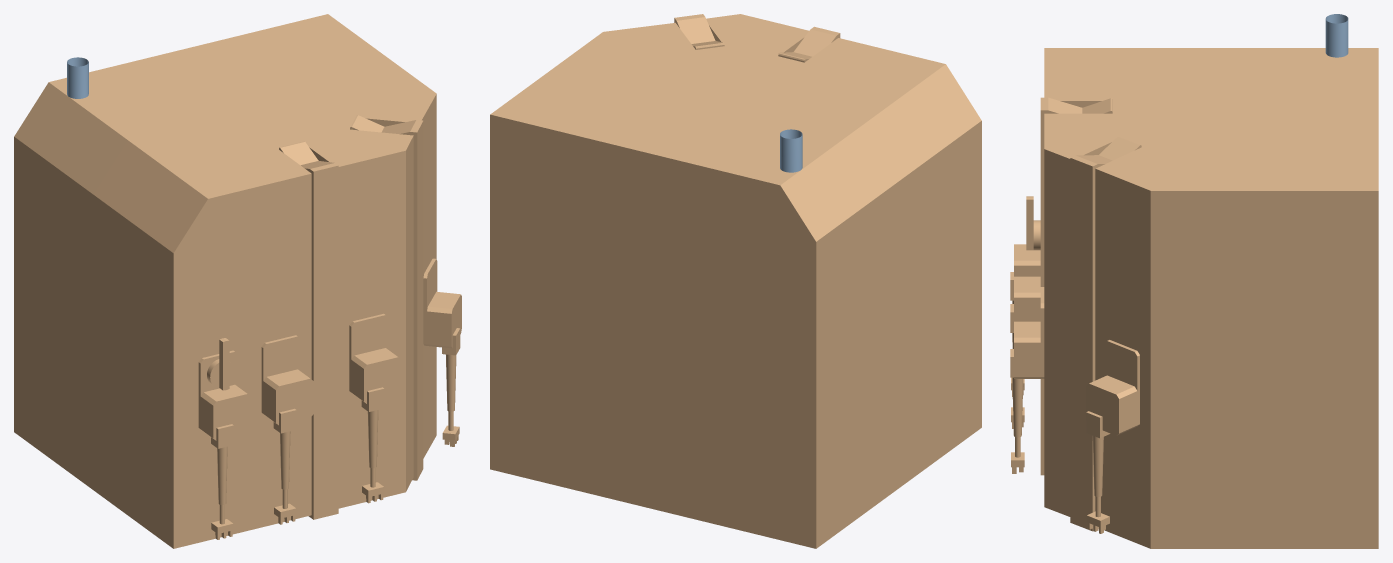
The model's file is AVCM270-Top.fbx.
3 views of the same model, side by side, from view 1: azimuth 30°, elevation 25°; view 2: azimuth 150°, elevation 25°; view 3: azimuth 270°, elevation 25° (orthographic). The views are drawn at different scales.
Parts seen in each view (by area): view 1: AVCM270-ShroudMain, AVCM270-ShroudRemovable, AVCM270-ShoudStrap-1, AVCM270-QM11, AVCM270-QM31, AVCM270-ShroudStrap-2, AVCM270-QM30, AVCM270-GP1, AVCM270-QM-Switch, AVCM270-XL2; view 2: AVCM270-ShroudMain, AVCM270-ShroudRemovable, AVCM270-ShroudStrap-2, AVCM270-ShoudStrap-1, AVCM270-XL2; view 3: AVCM270-ShroudMain, AVCM270-ShroudRemovable, AVCM270-ShroudStrap-2, AVCM270-GP1, AVCM270-QM11, AVCM270-ShoudStrap-1, AVCM270-QM31, AVCM270-XL2, AVCM270-QM30, AVCM270-QM-Switch.
Boxes of the visible parts, x1,y1,x2,y2 form: AVCM270-ShroudMain: (14,14,436,548); AVCM270-ShroudRemovable: (94,72,436,384); AVCM270-ShoudStrap-1: (279,141,338,519); AVCM270-QM11: (349,313,401,503); AVCM270-QM31: (261,335,313,524); AVCM270-ShroudStrap-2: (350,115,423,480); AVCM270-QM30: (198,350,250,539); AVCM270-GP1: (423,258,461,446); AVCM270-QM-Switch: (207,338,234,390); AVCM270-XL2: (67,57,88,98); AVCM270-ShroudMain: (490,54,981,548); AVCM270-ShroudRemovable: (573,14,981,317); AVCM270-ShroudStrap-2: (674,14,724,49); AVCM270-ShoudStrap-1: (778,26,840,62); AVCM270-XL2: (780,129,802,172); AVCM270-ShroudMain: (1044,48,1378,548); AVCM270-ShroudRemovable: (1044,48,1211,376); AVCM270-ShroudStrap-2: (1070,136,1141,531); AVCM270-GP1: (1086,340,1139,533); AVCM270-QM11: (1010,287,1044,473); AVCM270-ShoudStrap-1: (1040,97,1112,475); AVCM270-QM31: (1010,276,1040,428); AVCM270-XL2: (1325,14,1348,57); AVCM270-QM30: (1010,244,1040,396); AVCM270-QM-Switch: (1026,196,1040,250).
Bounding box in the file's own units: 51.59 × 57.43 × 48.5.
